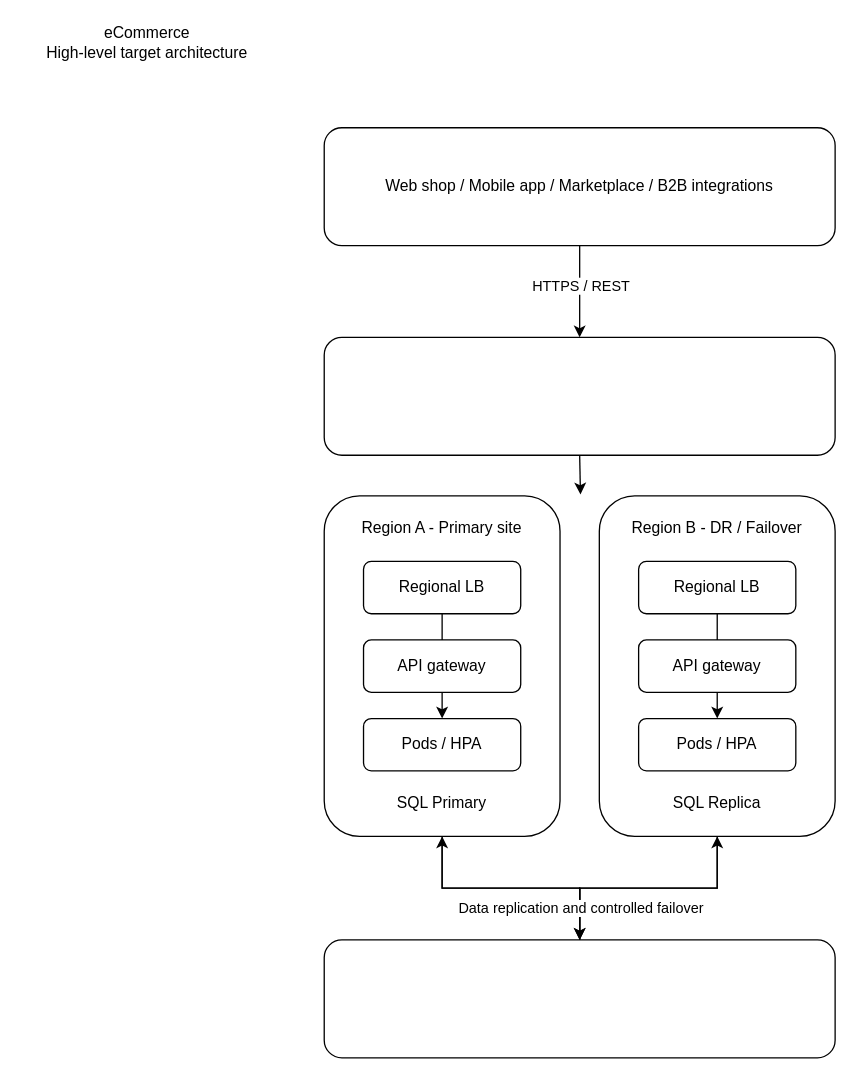
Some shapes in this 858 by 1081 pixel diagram are drawn without their labels. Each missing label, with the centre of its shape:
"CDN + WAF + Global Load Balancer (Georouting; JWT; DDoS protection)" goes at point 579,395.
"Redis HA RabbitMQ cluster Observability" goes at point 579,998.
